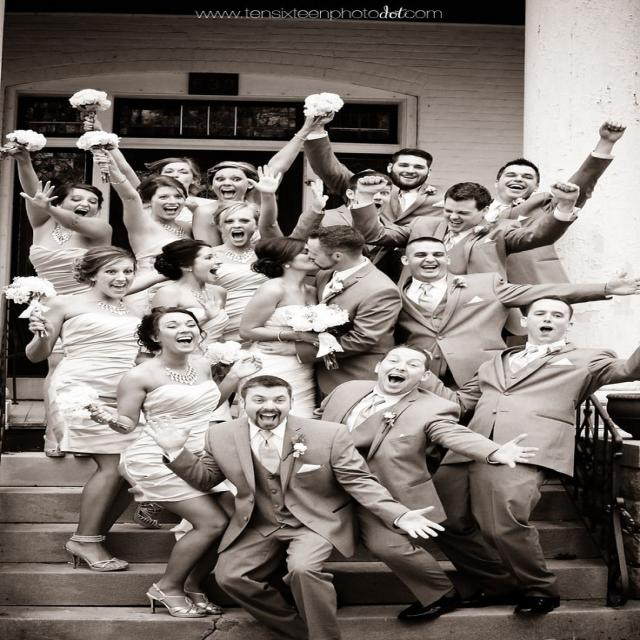body: (144, 372, 449, 640), (408, 292, 639, 622), (313, 342, 542, 626), (84, 306, 267, 620), (348, 174, 581, 349), (23, 245, 147, 572), (391, 235, 639, 395), (0, 127, 115, 460), (254, 223, 407, 408), (479, 117, 629, 286), (188, 91, 342, 249), (66, 86, 219, 226), (73, 130, 194, 278), (302, 110, 450, 227), (234, 236, 327, 420), (144, 236, 236, 359), (290, 169, 402, 268), (190, 163, 296, 250)
